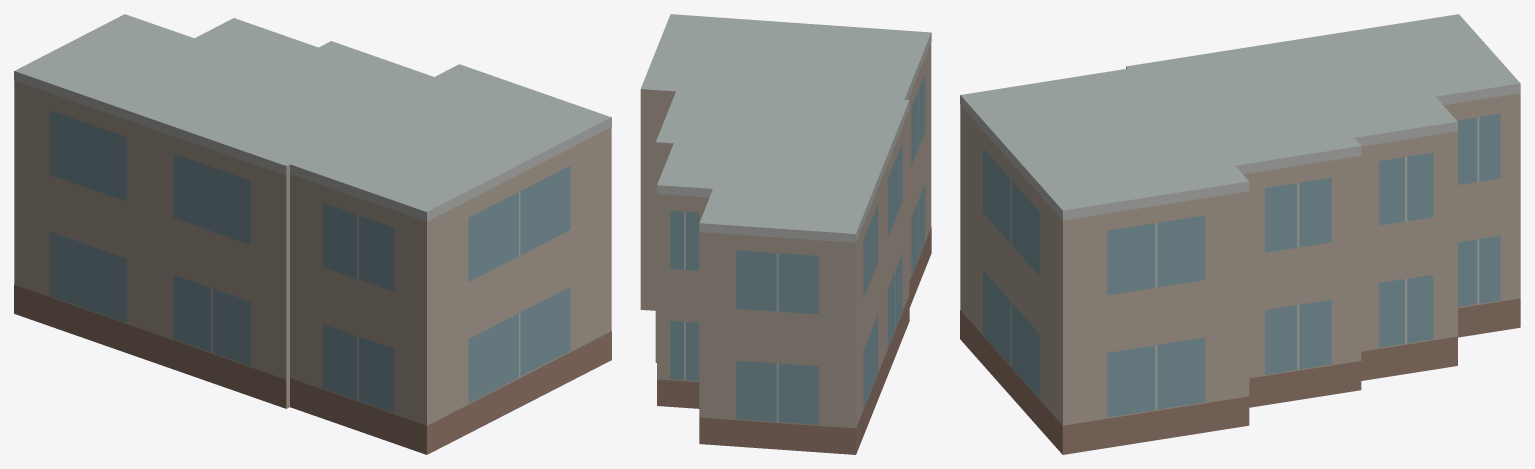
File: survey-upis-32980424.glb
3 views of the same model, side by side, from view 1: azimuth 30°, elevation 25°; view 2: azimuth 150°, elevation 25°; view 3: azimuth 270°, elevation 25° (orthographic). The views are drawn at different scales.
Visible parts, largest first — view 1: survey-upis-32980424.tmp; view 2: survey-upis-32980424.tmp; view 3: survey-upis-32980424.tmp.
Part boxes in pixels (x1,y1,x2,y2): survey-upis-32980424.tmp: (14, 14, 611, 454); survey-upis-32980424.tmp: (640, 14, 931, 454); survey-upis-32980424.tmp: (960, 14, 1520, 454).
Size of the model in its own units: 10.55 by 6.1 by 12.7.
